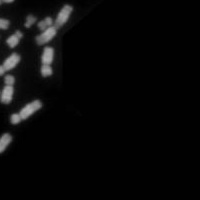chromosome: (34, 4, 73, 46), (10, 98, 42, 125), (0, 52, 20, 77), (40, 46, 54, 78), (0, 133, 13, 165), (1, 74, 14, 104), (6, 30, 23, 48), (37, 17, 52, 31), (23, 14, 36, 27), (0, 18, 9, 31), (0, 0, 14, 6)
